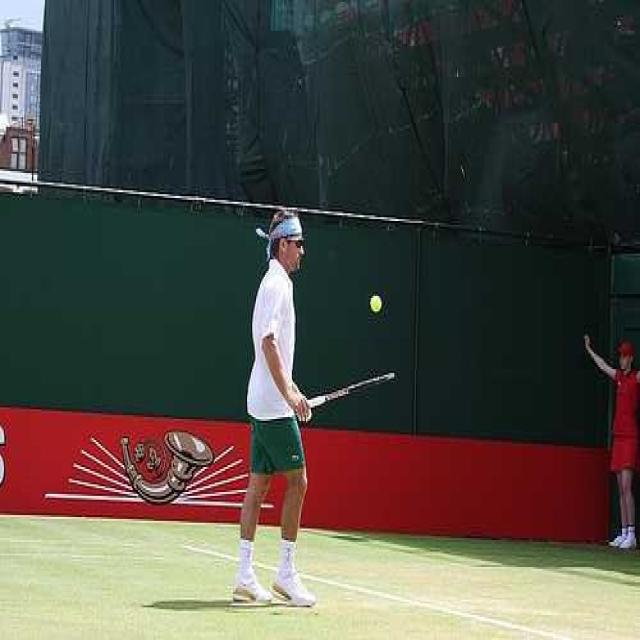Tennis_Ball: (372, 294, 381, 318)
